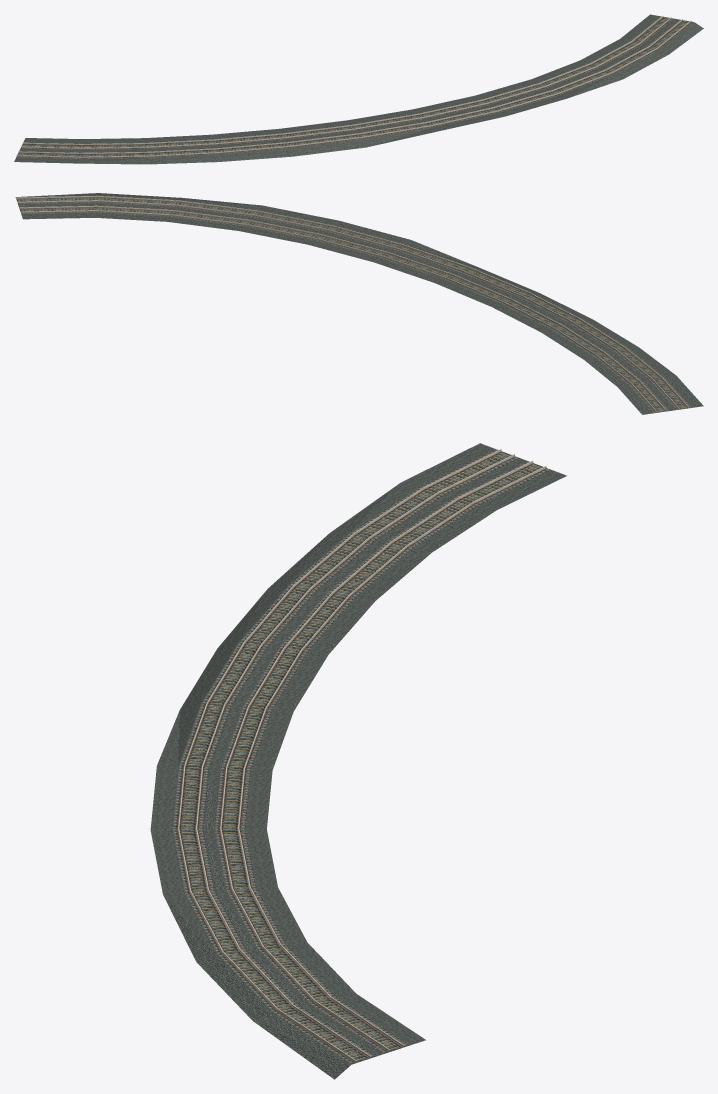
File: cuntwrail03.obj
The picture shows the model from 3 angles, top to bottom: view 1: azimuth 30°, elevation 25°; view 2: azimuth 150°, elevation 25°; view 3: azimuth 270°, elevation 25°; orthographic projection. The views are drawn at different scales.
Visible parts, largest first — view 1: cuntwrail03; view 2: cuntwrail03; view 3: cuntwrail03.
Boxes of the visible parts, left/top/right/bottom form: cuntwrail03: left=14, top=14, right=703, bottom=164; cuntwrail03: left=15, top=193, right=703, bottom=414; cuntwrail03: left=150, top=443, right=566, bottom=1079.
Size of the model in its own units: 144 by 1.45 by 39.67.
